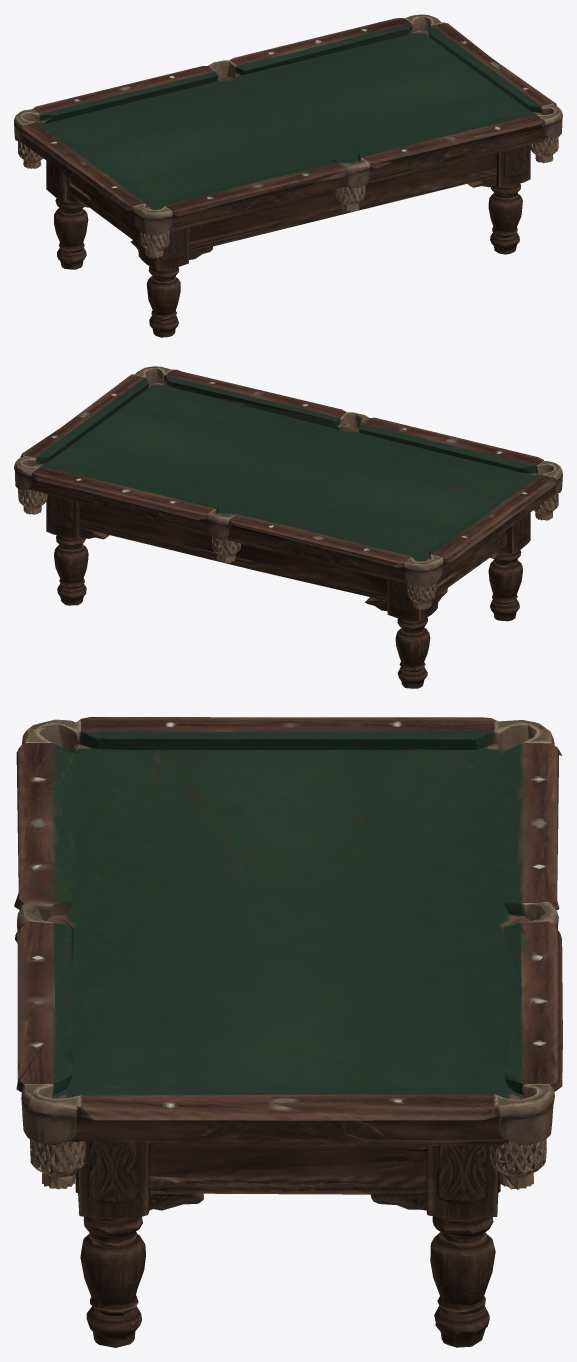
The model's file is sp_m_pooltable.glb.
3 renders of one model, top to bottom at view 1: azimuth 30°, elevation 25°; view 2: azimuth 150°, elevation 25°; view 3: azimuth 270°, elevation 25°, orthographic. The views are drawn at different scales.
Visible parts, largest first — view 1: Mesh_0; view 2: Mesh_0; view 3: Mesh_0.
Boxes of the visible parts, box(x1,y1,x2,y2) form: Mesh_0: box(14, 14, 562, 337); Mesh_0: box(14, 366, 562, 688); Mesh_0: box(14, 717, 562, 1347).
Bounding box in the file's own units: 1.9 × 0.6101 × 1.11.
1 material, 1 textured.
